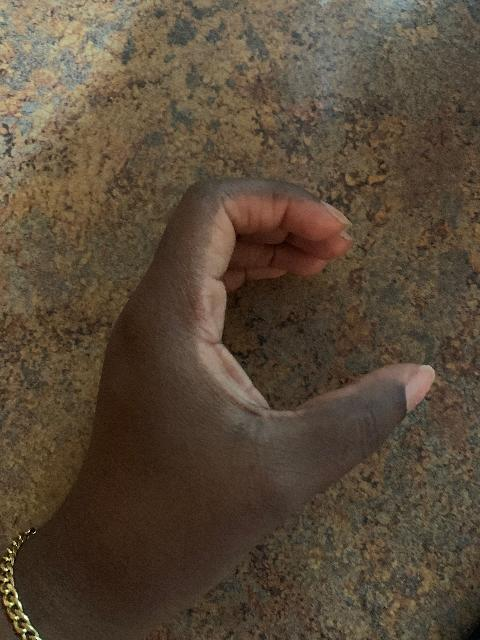C: (56, 171, 444, 611)
